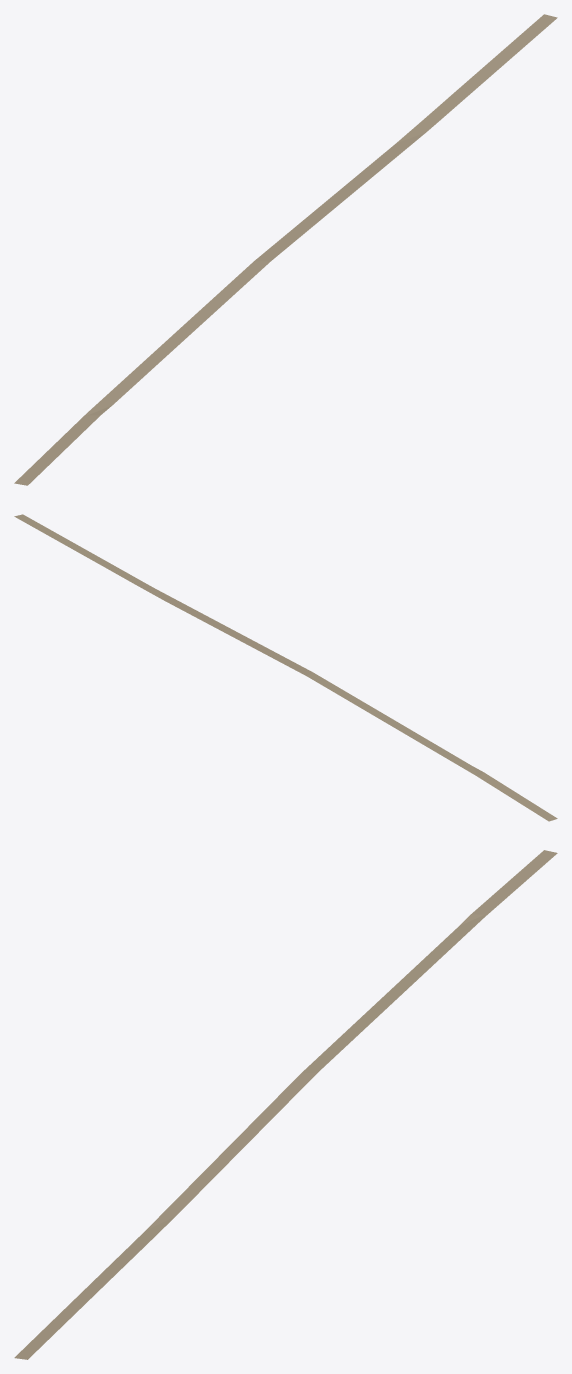
Rendered from farm_15_13_track.glb.
The picture shows the model from 3 angles, top to bottom: view 1: azimuth 90°, elevation 25°; view 2: azimuth 150°, elevation 25°; view 3: azimuth 270°, elevation 25°; orthographic projection. The views are drawn at different scales.
Parts seen in each view (by area): view 1: geometry_0; view 2: geometry_0; view 3: geometry_0.
Part boxes in pixels (bbox=[...]): geometry_0: bbox=[14, 14, 557, 485]; geometry_0: bbox=[14, 514, 557, 821]; geometry_0: bbox=[14, 850, 557, 1359].
Size of the model in its own units: 251 by 5.52 by 118.
